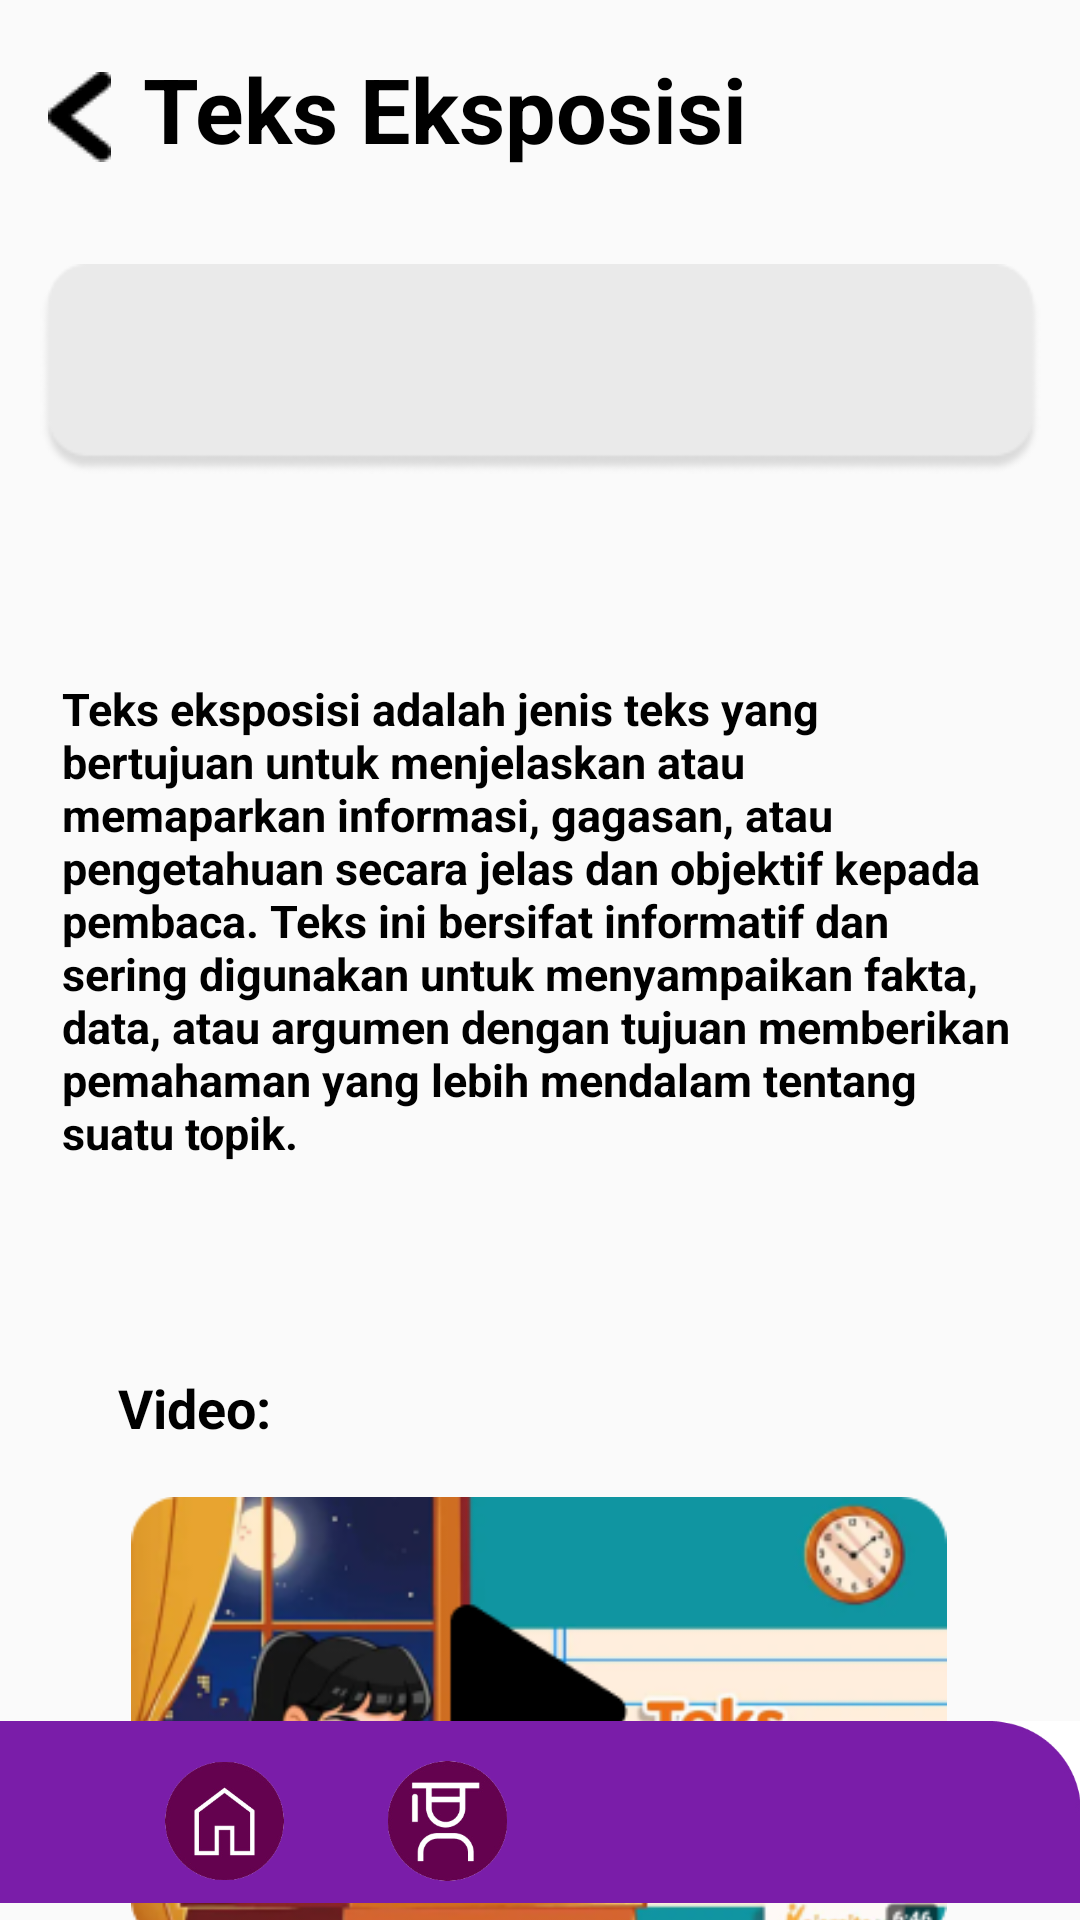

Icons on this 1080 × 1920 Android screen, each with its box as (x1, y1, x2, y2):
arrow: (48, 72, 111, 162)
